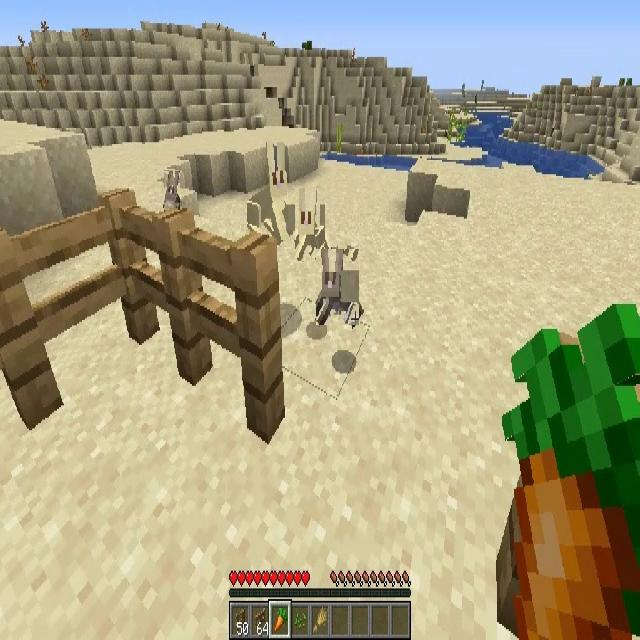rabbit: (316, 249, 359, 325), (296, 188, 326, 261), (268, 144, 290, 228), (164, 170, 180, 210)
